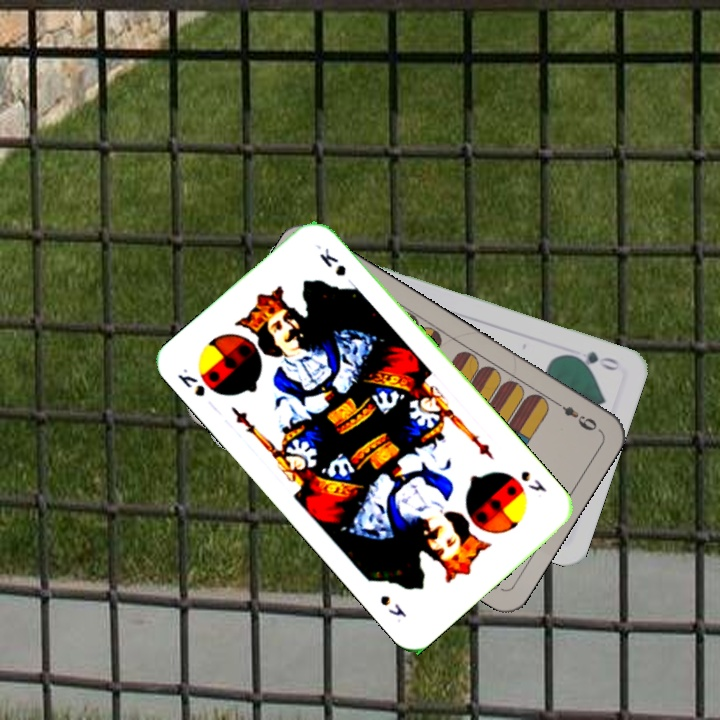E9: (549, 396, 600, 434)
GO: (564, 347, 622, 374)
SK: (173, 364, 208, 400), (516, 466, 550, 495)
